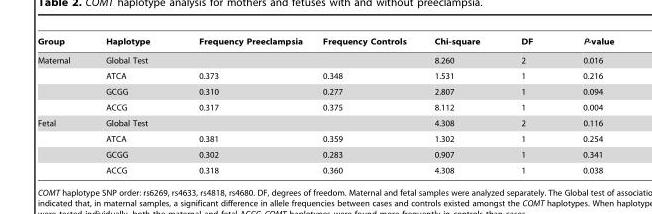table: (37, 36, 613, 174)
table column: (173, 36, 312, 174), (312, 36, 419, 174), (87, 36, 173, 174), (419, 36, 499, 174), (499, 36, 556, 174), (556, 36, 613, 174), (37, 36, 87, 174)
table column header: (37, 36, 613, 50)
table row: (37, 50, 613, 67), (37, 67, 613, 83), (37, 83, 613, 99), (37, 99, 613, 115), (37, 130, 613, 146), (37, 146, 613, 162), (37, 115, 613, 130), (37, 36, 613, 50), (37, 162, 613, 174)
table spanning cell: (37, 50, 87, 115), (37, 115, 87, 174)
